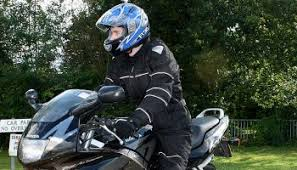helmet: (87, 1, 158, 53)
